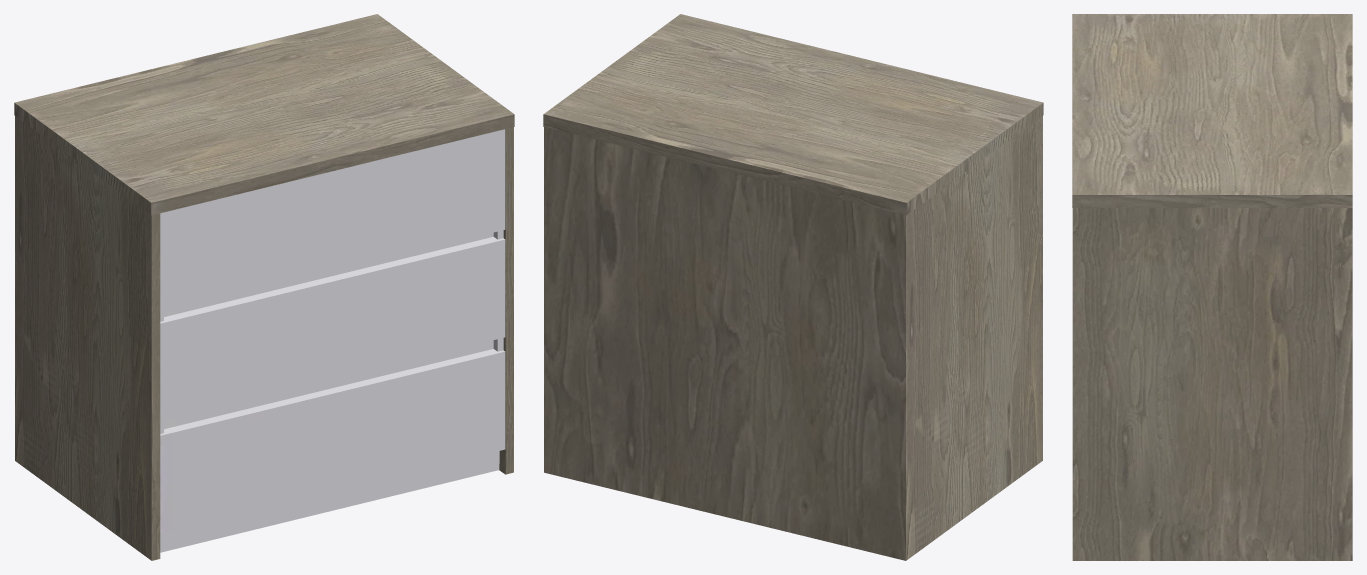
File: B07GFRP9RY.glb
The picture shows the model from 3 angles, left to right: view 1: azimuth 30°, elevation 25°; view 2: azimuth 150°, elevation 25°; view 3: azimuth 270°, elevation 25°; orthographic projection. The views are drawn at different scales.
Parts seen in each view (by area): view 1: RootNode; view 2: RootNode; view 3: RootNode.
Boxes of the visible parts, x1,y1,x2,y2 form: RootNode: (14, 14, 514, 560); RootNode: (543, 14, 1043, 560); RootNode: (1072, 14, 1352, 560).
Size of the model in its own units: 0.8086 by 0.7622 by 0.5286.
Materials: 1 (1 with a texture image).
